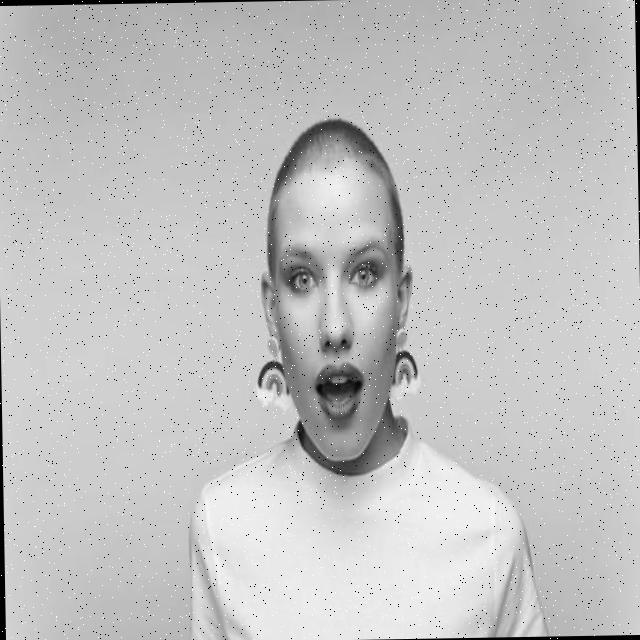Surprised: (273, 161, 399, 466)
